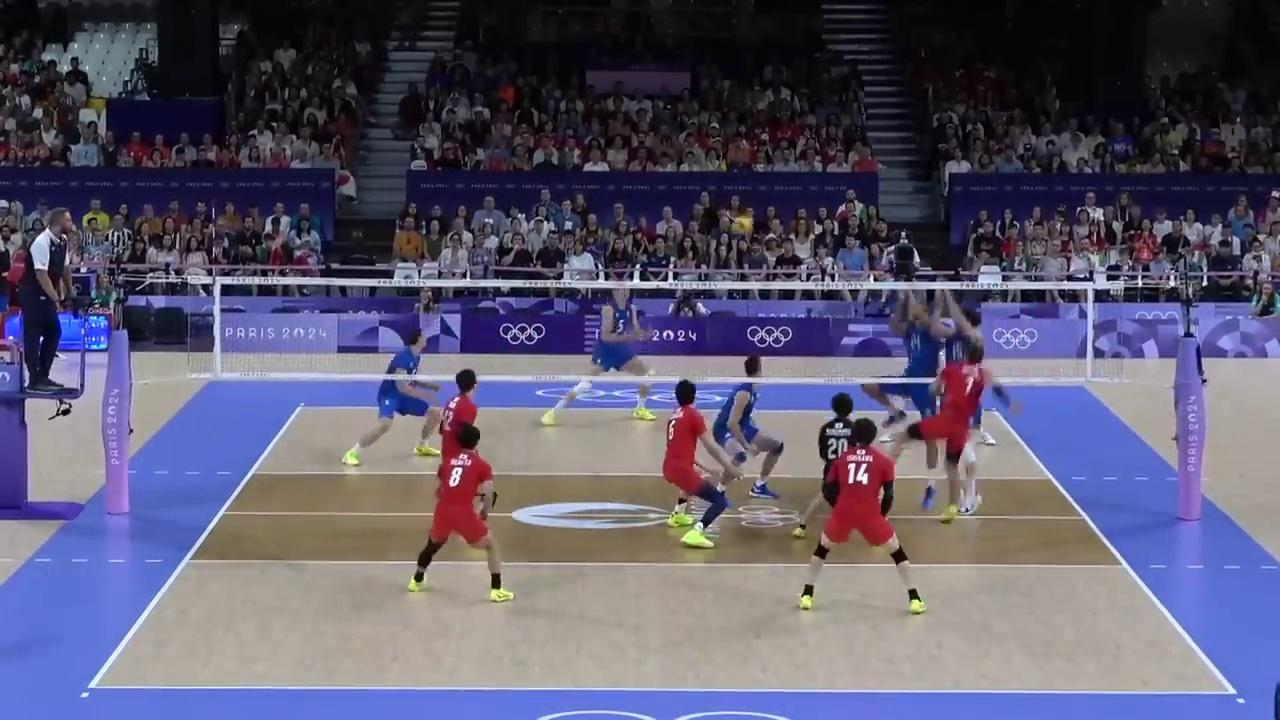ball: (729, 216, 755, 237)
